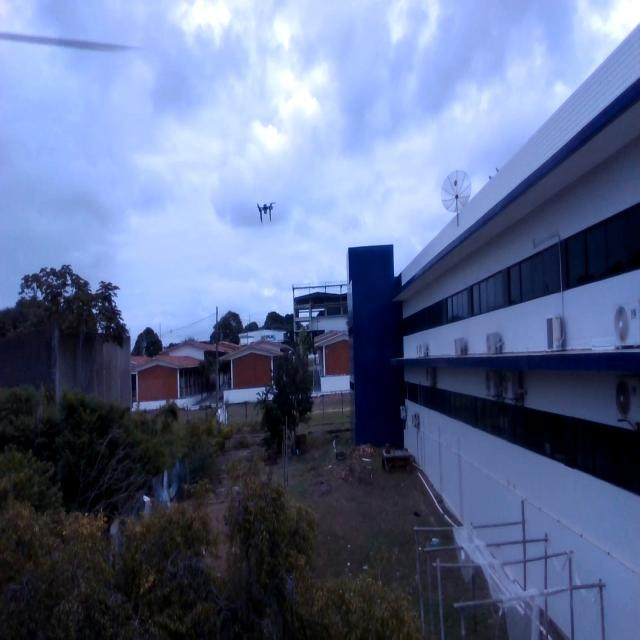-uav-: (251, 188, 277, 230)
